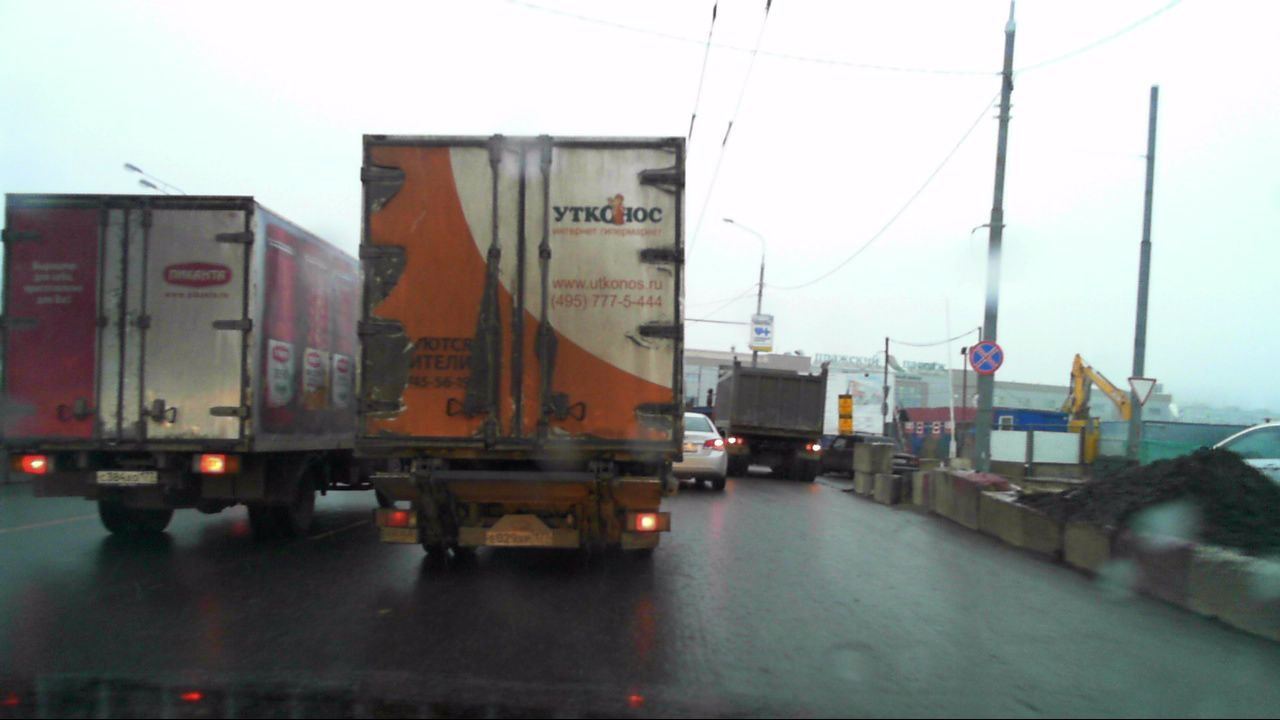No Parking: (969, 340, 1004, 375)
